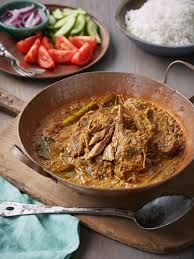rendang: (18, 67, 193, 201)
